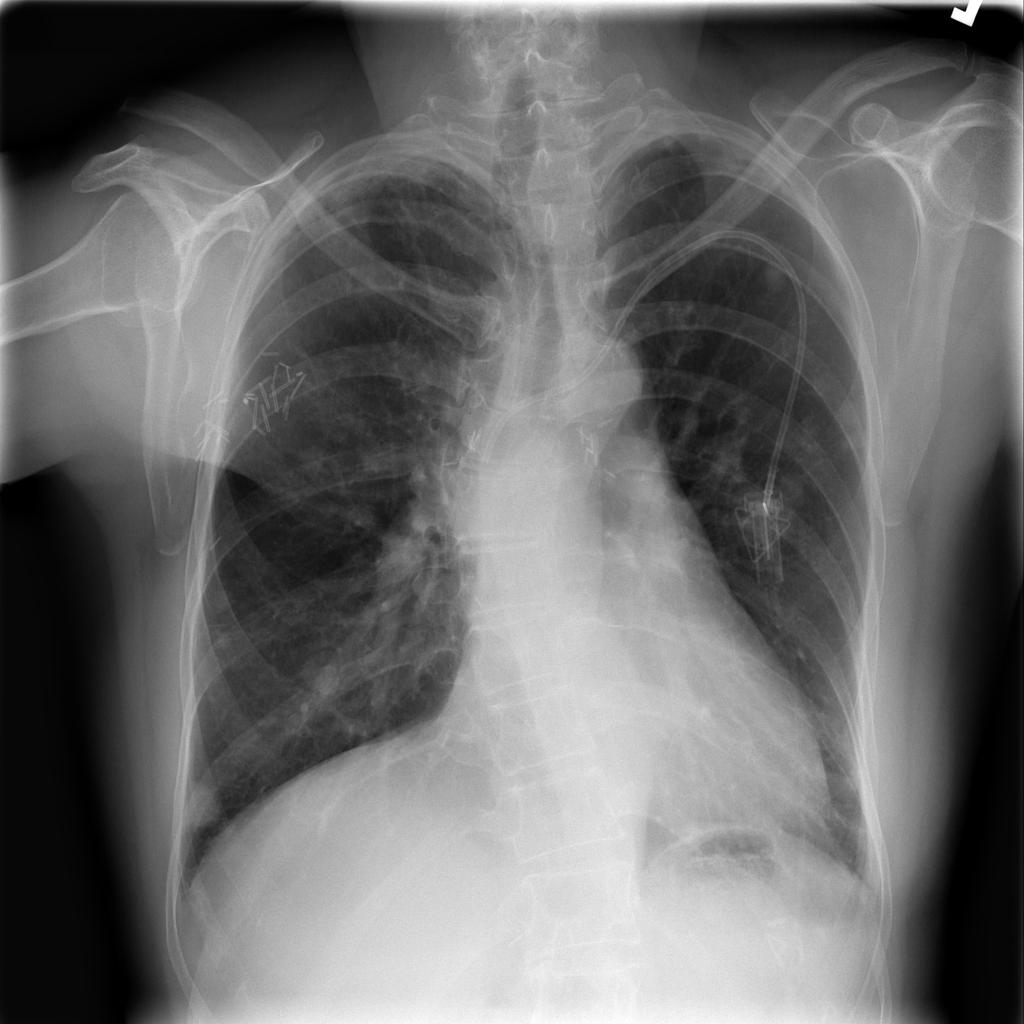nodule: (166, 763, 236, 842), (209, 629, 239, 656)
